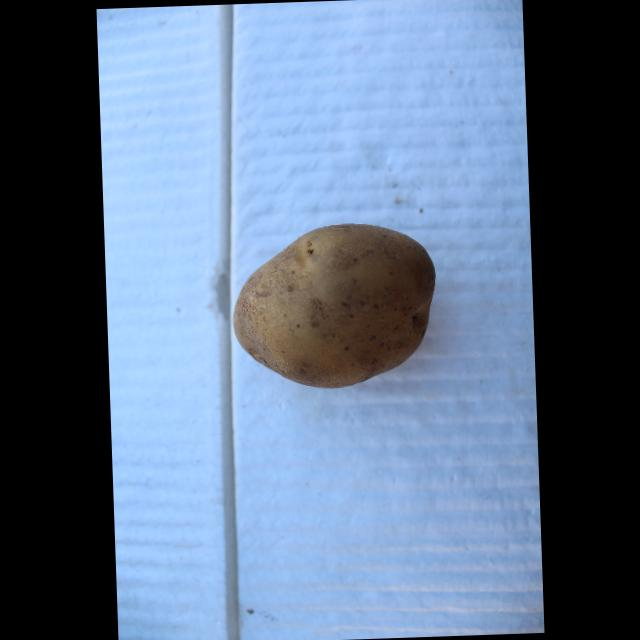Diseased-fungal potato: (222, 214, 449, 394)
